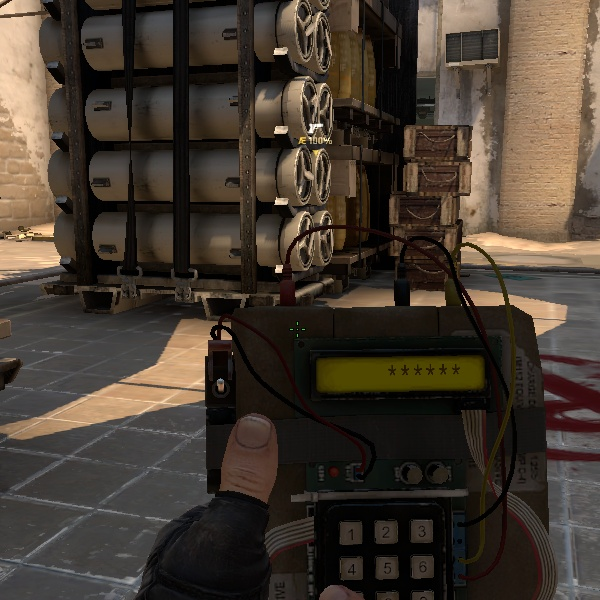t_head: (204, 313, 237, 347)
